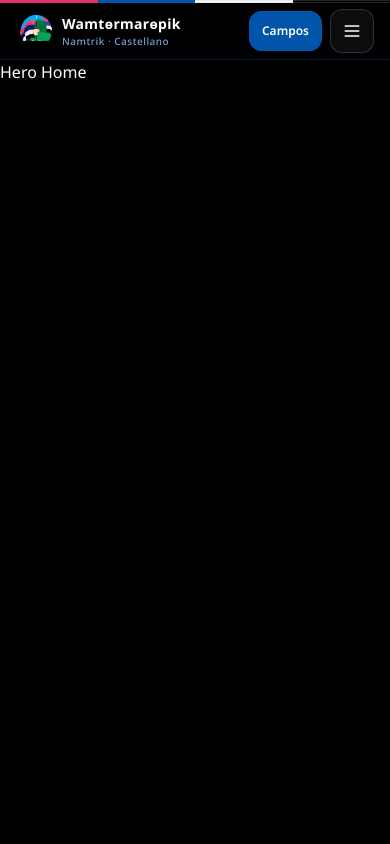
it: PublicHeader › navega a /campos desde el menú móvil colapsado (drawer) estando en el Home (R-024)
Step 1. Click the button named "Abrir menú de navegación" → (352,31), box x1=330 y1=9 x2=374 y2=53
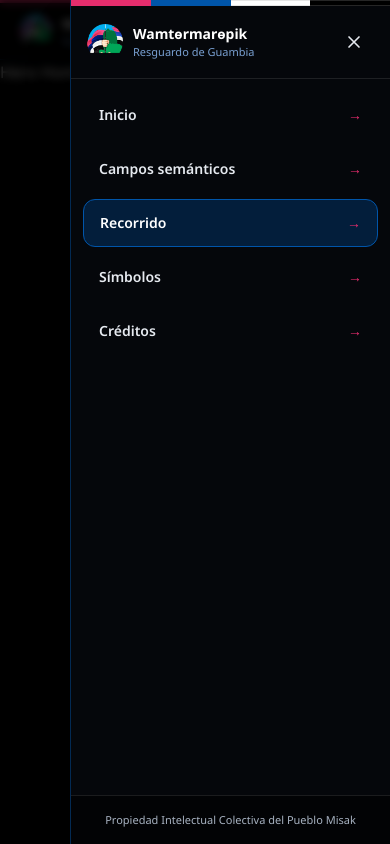
Expected: the navigation bar named "Menú móvil del diccionario" is shown
Expected: the link "Campos semánticos →" is shown
Step 2. Click the link "Campos semánticos →" → (230,168), box x1=99 y1=159 x2=362 y2=178
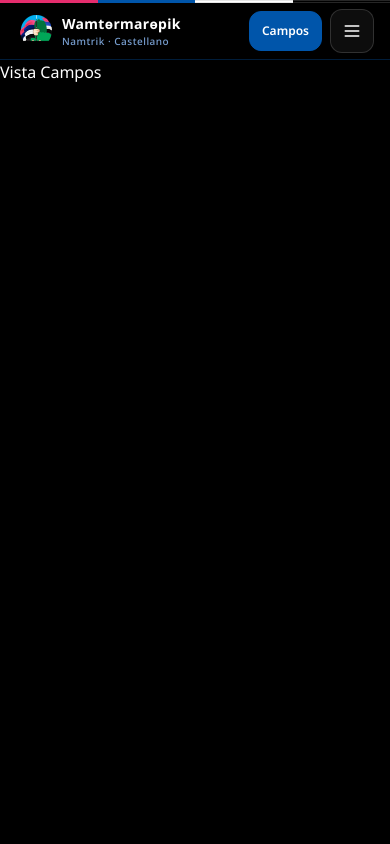
Expected: the text "Vista Campos" is shown, x1=0 y1=61 x2=102 y2=83
